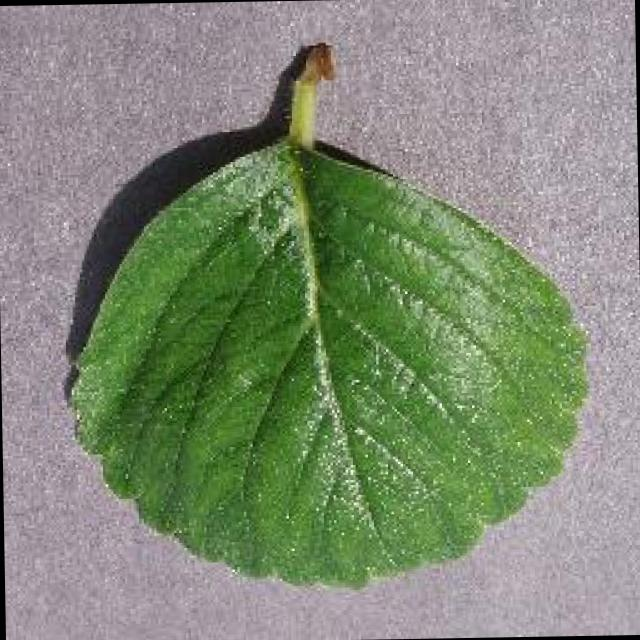healthy: (76, 48, 584, 587)
